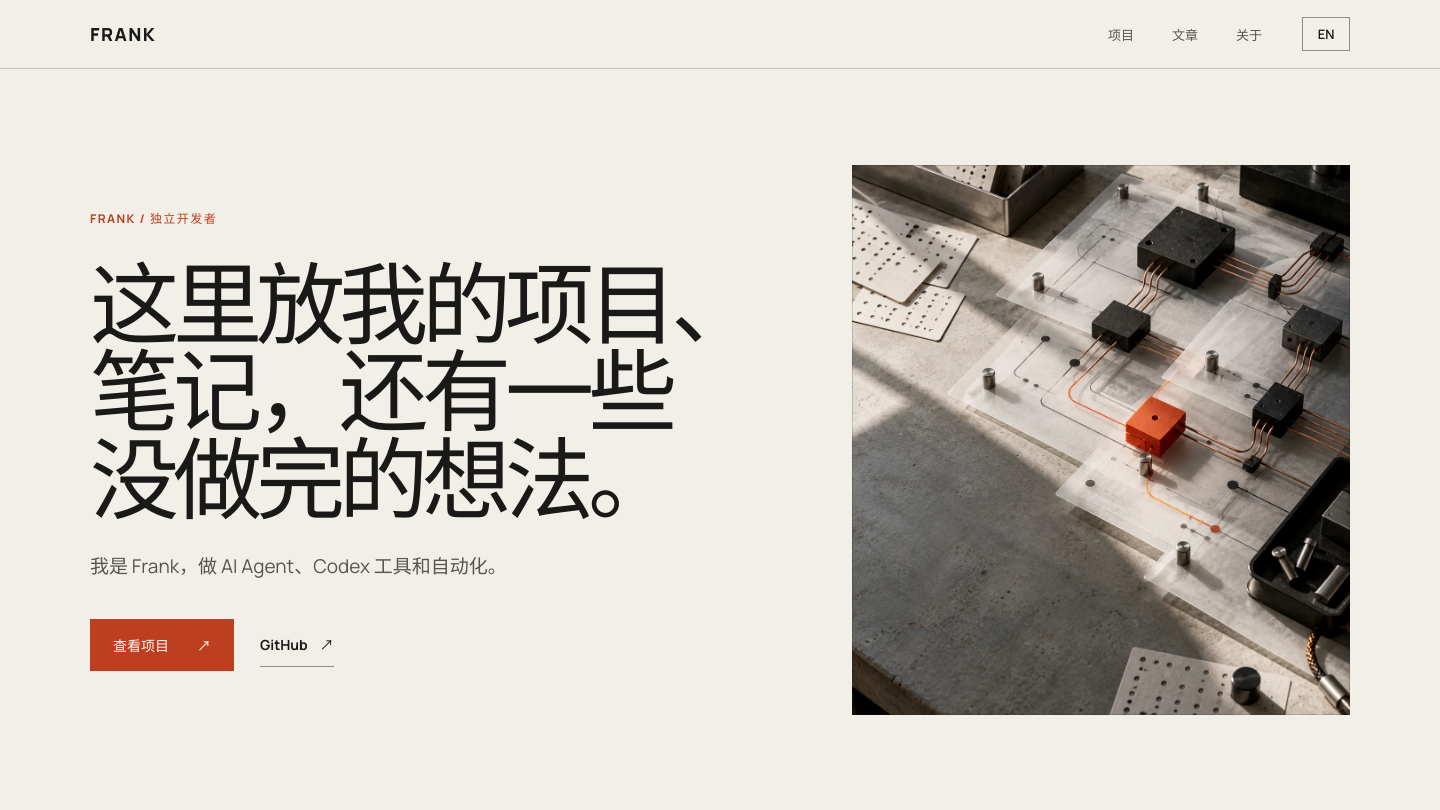
Test: App routing and localization › renders direct first-person home copy and switches language persistently
Expected: the heading reads "这里放我的项目、笔记，还有一些没做完的想法。", x1=90 y1=242 x2=754 y2=539
Expected: the text "我是 Frank，做 AI Agent、Codex 工具和自动化。" is shown, x1=90 y1=553 x2=507 y2=579
What coordinates should you click on to do the following:
click the button with aria-label "Switch to English"
I would click on:
 (1326, 34)
Its box is x1=1302 y1=17 x2=1350 y2=51.
(page scrolled)
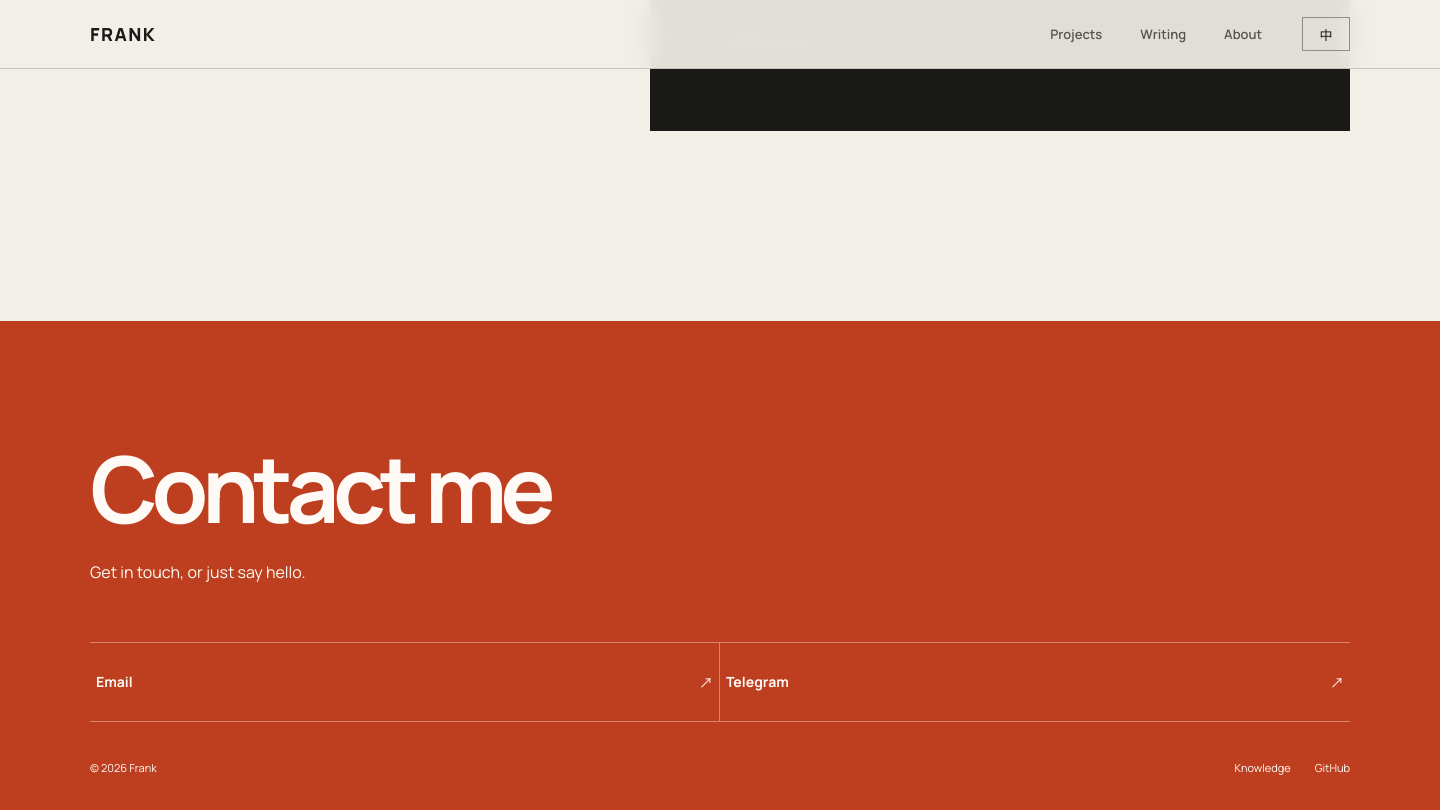
Now the heading "Contact me" is shown, box x1=90 y1=425 x2=549 y2=551
Now the text "Get in touch, or just say hello." is shown, box x1=90 y1=561 x2=306 y2=583
